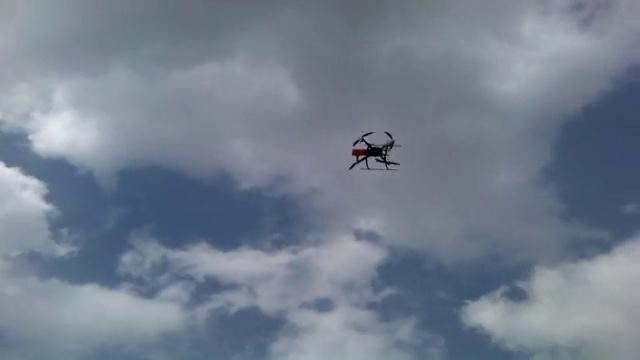drone: (345, 125, 402, 171)
